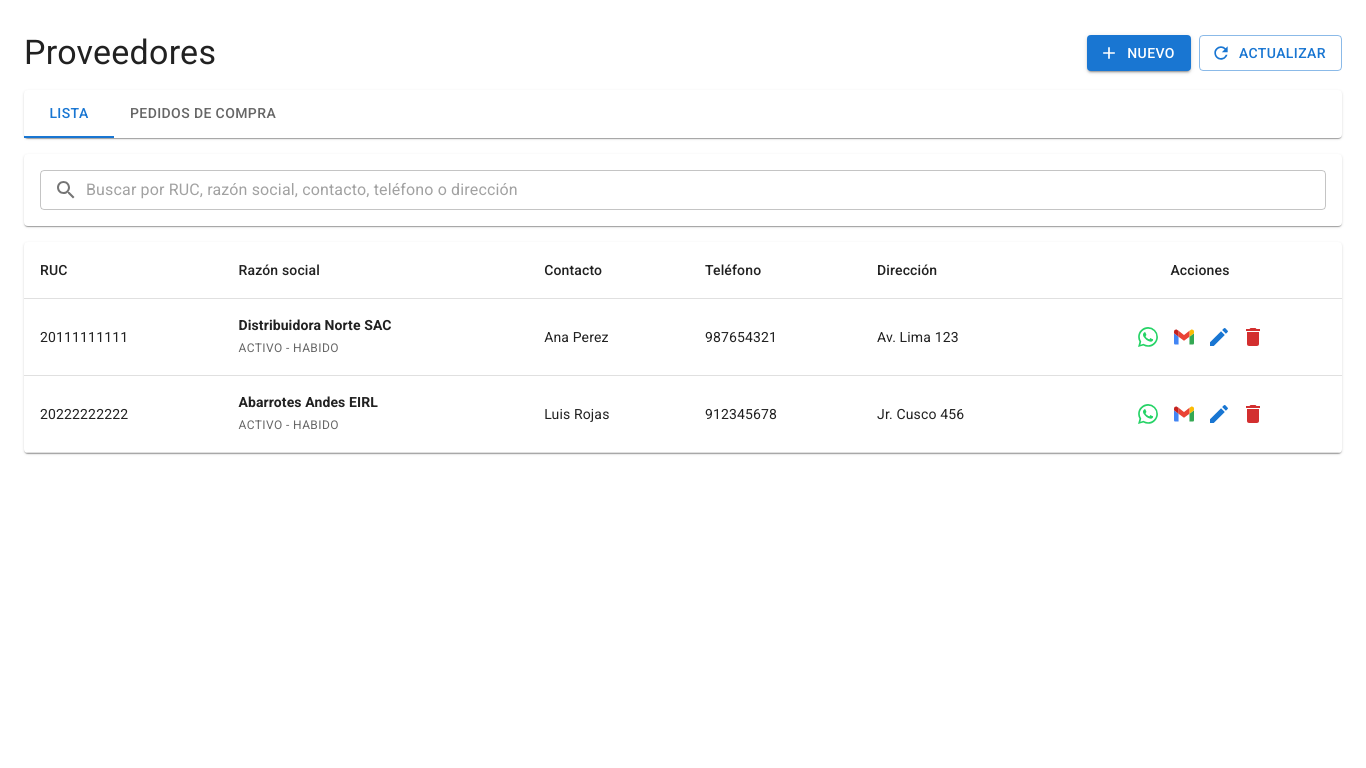
Test: ProveedoresPage › agrega un proveedor desde el formulario
Expected: the heading "Distribuidora Norte SAC" is shown, top-left (238, 317), bottom-right (392, 333)
Click the button "Nuevo" at [1139, 53], box top-left (1087, 35), bottom-right (1191, 71)
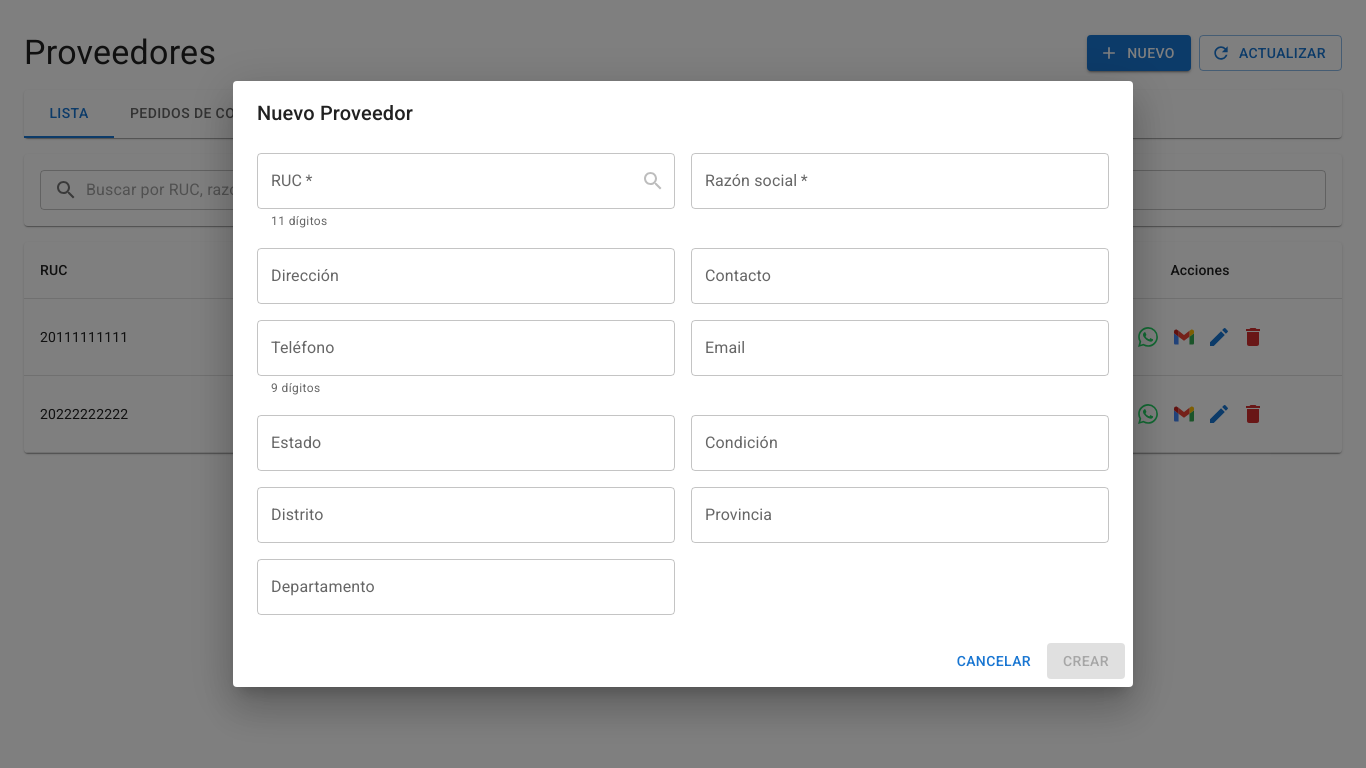
Type "20333333333" into the field labelled "RUC *" at [441, 181], box top-left (257, 153), bottom-right (625, 209)
Type "Lacteos Pacifico SAC" into the field labelled "Razón social *" at [900, 181], box top-left (691, 153), bottom-right (1109, 209)
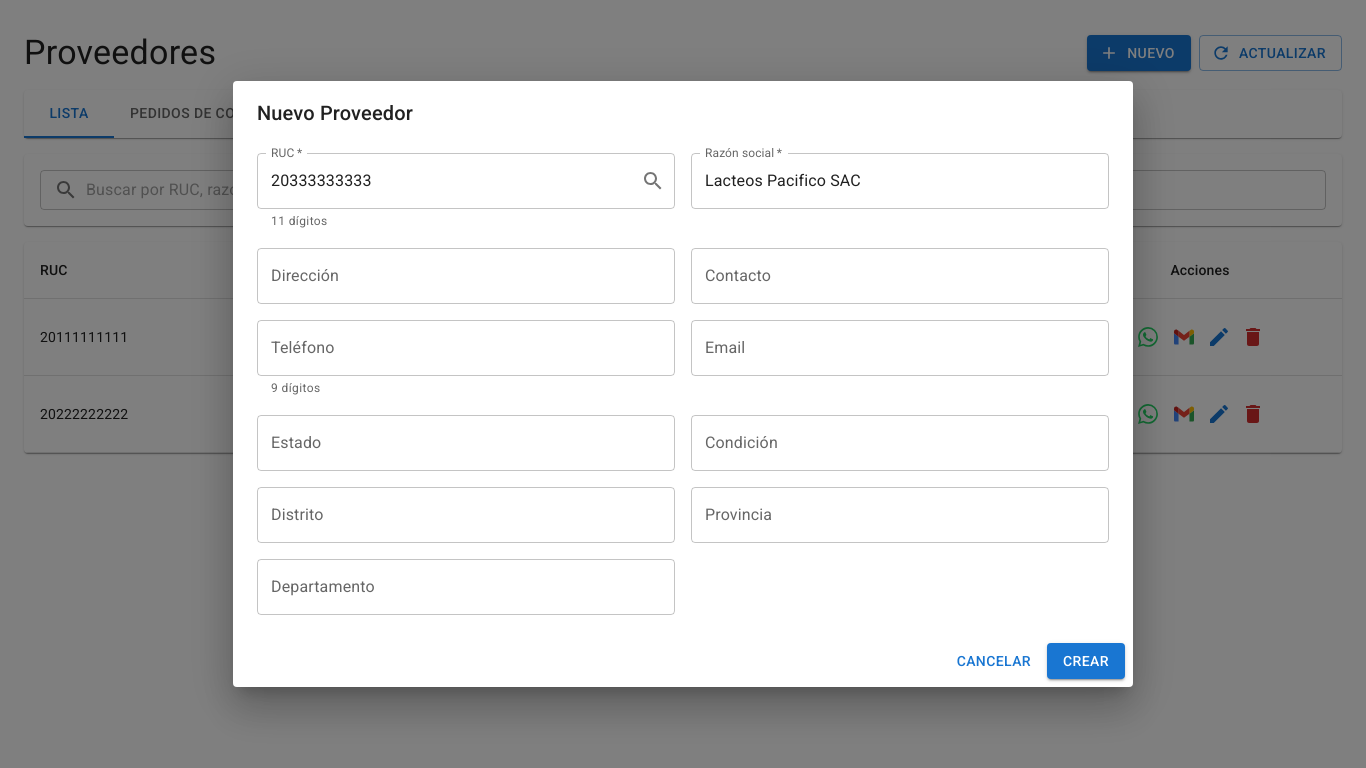
Type "Maria Solis" into the field labelled "Contacto" at [900, 276], box top-left (691, 248), bottom-right (1109, 304)
Type "999888777" into the field labelled "Teléfono" at [466, 348], box top-left (257, 320), bottom-right (675, 376)
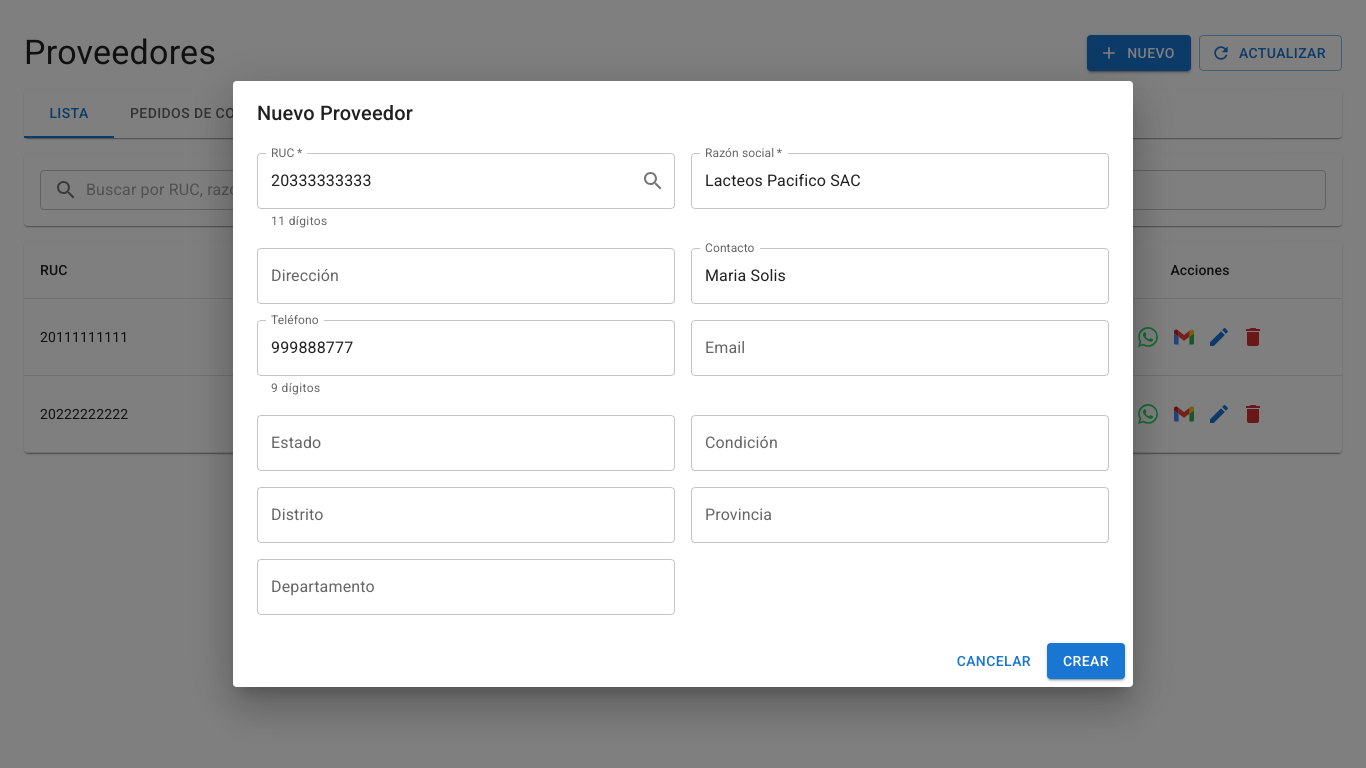
Type "maria@pacifico.test" into the field labelled "Email" at [900, 348], box top-left (691, 320), bottom-right (1109, 376)
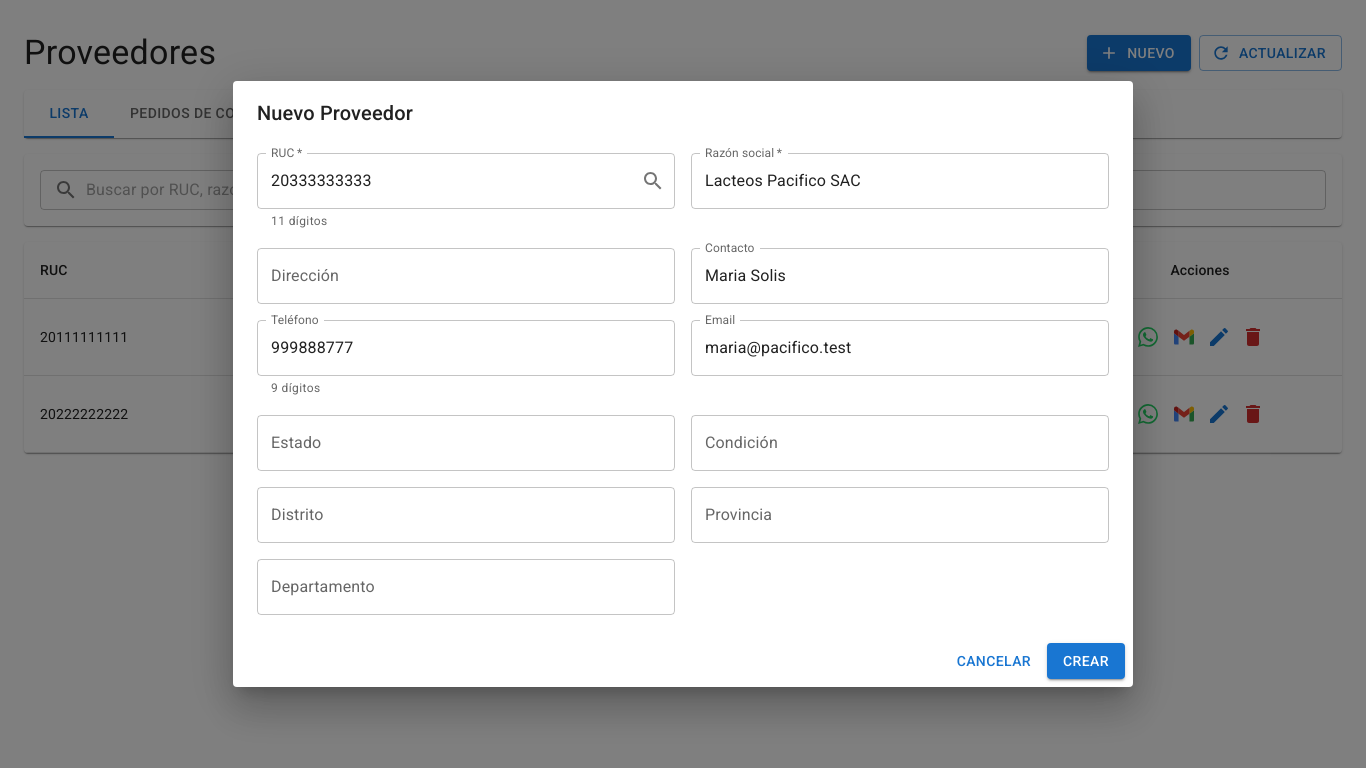
Type "Av. Grau 789" into the field labelled "Dirección" at [466, 276], box top-left (257, 248), bottom-right (675, 304)
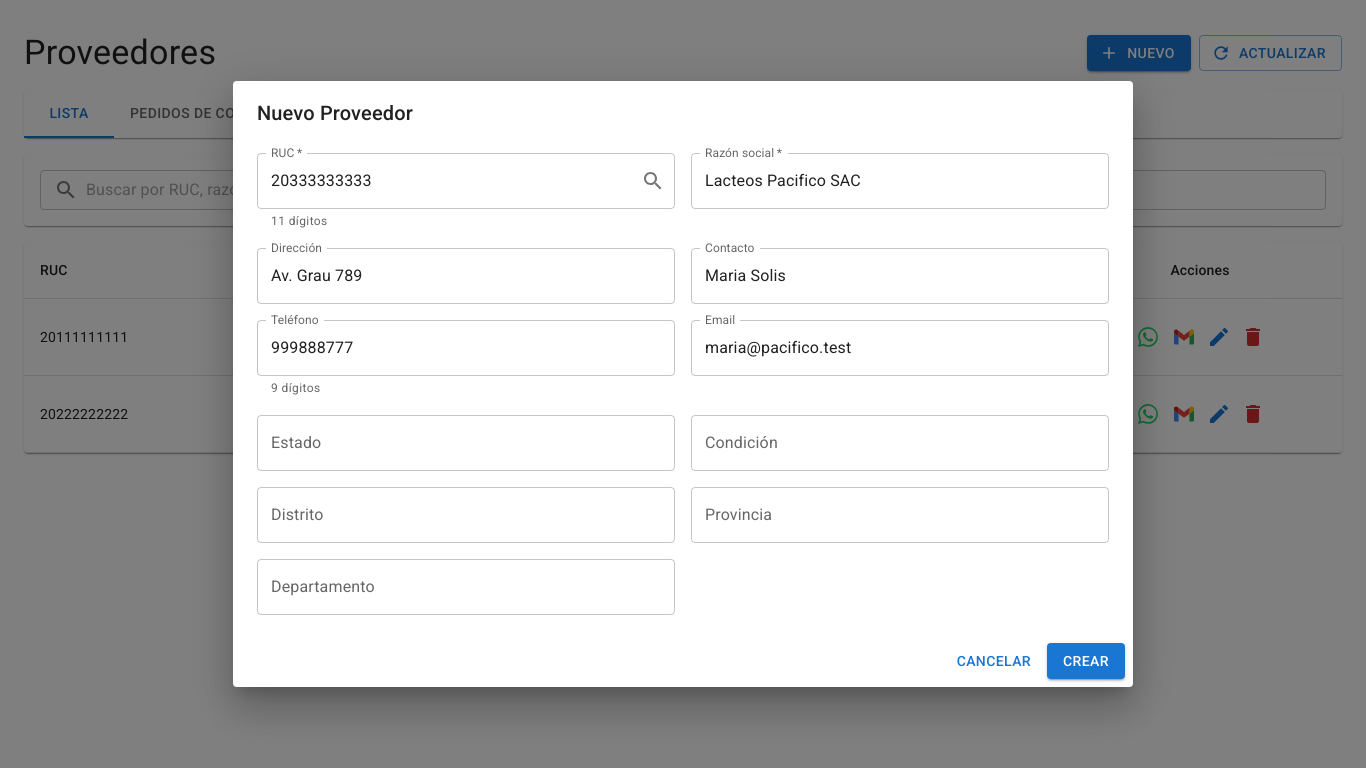
Click the button "Crear" at [1086, 661], box top-left (1047, 643), bottom-right (1125, 679)
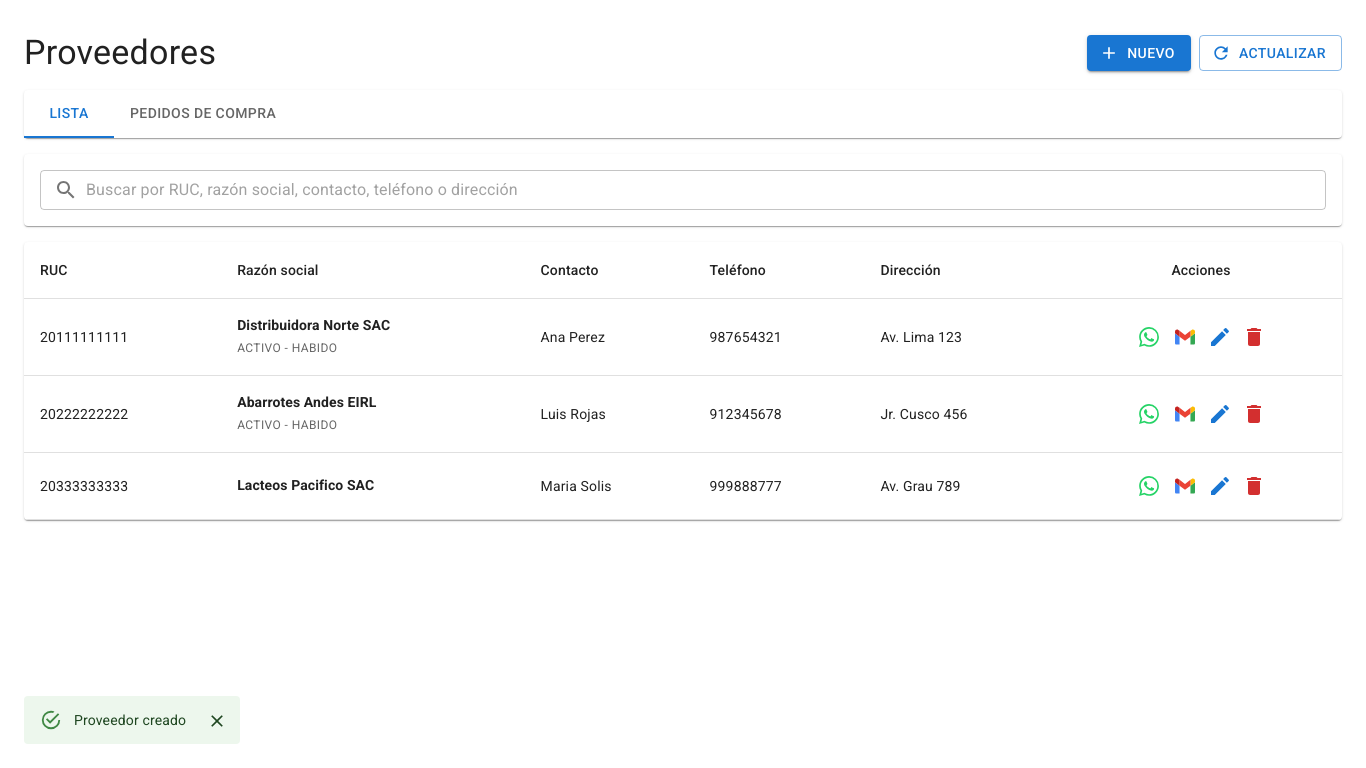
Result: the heading "Lacteos Pacifico SAC" is shown at top-left (237, 477), bottom-right (374, 493)
